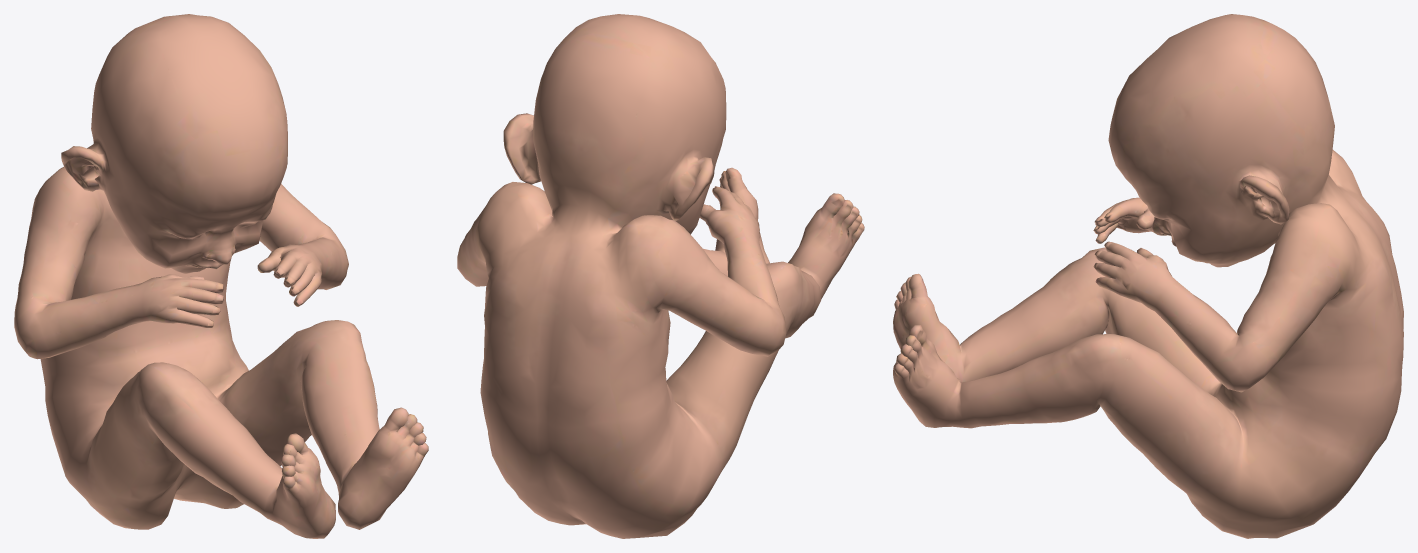
The picture shows the model from 3 angles, left to right: view 1: azimuth 30°, elevation 25°; view 2: azimuth 150°, elevation 25°; view 3: azimuth 270°, elevation 25°; orthographic projection.
Visible parts, largest first — view 1: Baby; view 2: Baby; view 3: Baby.
Part boxes in pixels (x1=…): Baby: x1=14, y1=14, x2=428, y2=538; Baby: x1=457, y1=14, x2=864, y2=538; Baby: x1=893, y1=14, x2=1403, y2=538.
Size of the model in its own units: 0.2624 by 0.3859 by 0.3624.
Materials: 1 (1 with a texture image).
